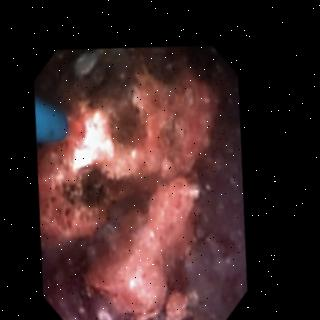fiber: (38, 97, 67, 140)
stone: (39, 46, 223, 234), (87, 175, 201, 318), (168, 288, 193, 319)
